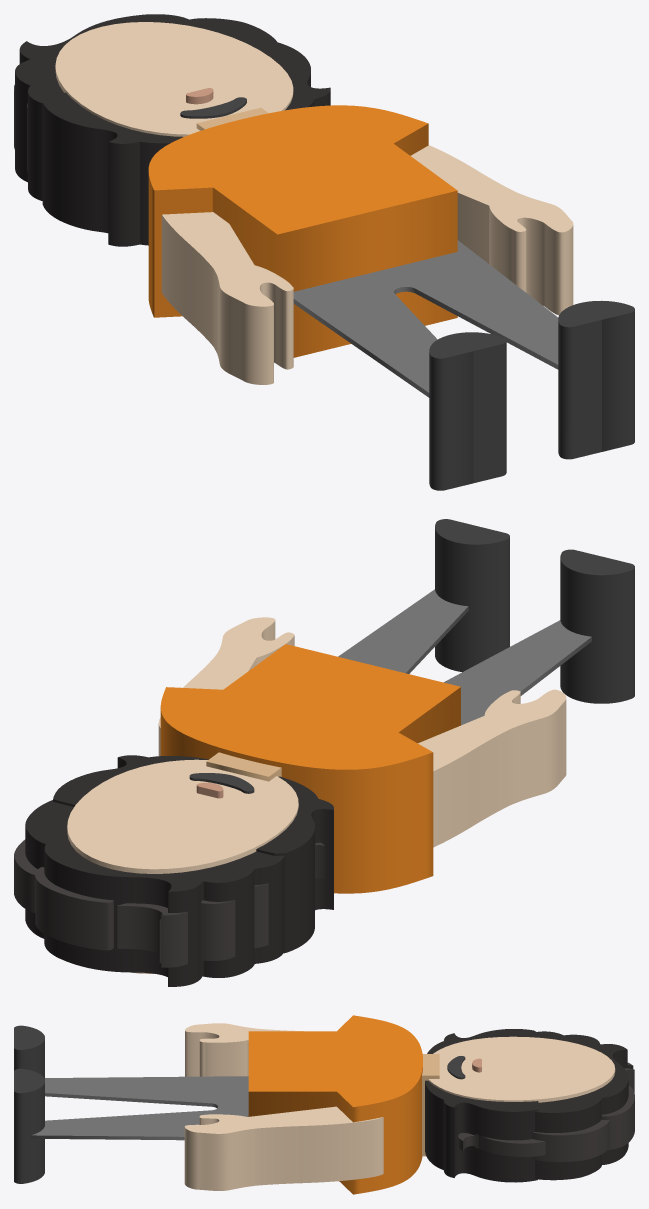
Rendered from emoji_u1f9cd_1f3fb.glb.
3 renders of one model, top to bottom at view 1: azimuth 30°, elevation 25°; view 2: azimuth 150°, elevation 25°; view 3: azimuth 270°, elevation 25°, orthographic. The views are drawn at different scales.
Parts seen in each view (by area): view 1: emoji_u1f9cd_1f3fb; view 2: emoji_u1f9cd_1f3fb; view 3: emoji_u1f9cd_1f3fb.
Boxes of the visible parts, box(x1,y1,x2,y2) form: emoji_u1f9cd_1f3fb: box(14, 14, 634, 490); emoji_u1f9cd_1f3fb: box(14, 519, 634, 986); emoji_u1f9cd_1f3fb: box(14, 1015, 634, 1194).
Size of the model in its own units: 0.0143 by 0.0054 by 0.0335.
